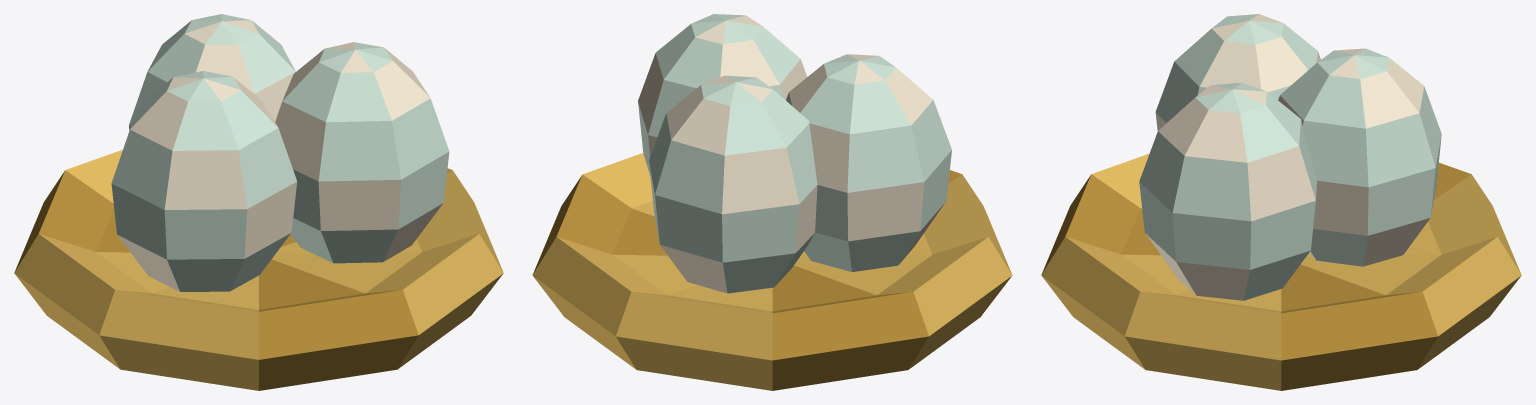
File: duck-egg.glb
The picture shows the model from 3 angles, left to right: view 1: azimuth 30°, elevation 25°; view 2: azimuth 150°, elevation 25°; view 3: azimuth 270°, elevation 25°; orthographic projection.
Parts seen in each view (by area): view 1: duck-egg; view 2: duck-egg; view 3: duck-egg.
Part boxes in pixels (box(x1,y1,x2,y2)): duck-egg: box(14, 14, 503, 390); duck-egg: box(532, 14, 1012, 390); duck-egg: box(1041, 14, 1521, 390).
Size of the model in its own units: 0.291 by 0.1672 by 0.2954.
1 material, 1 textured.
